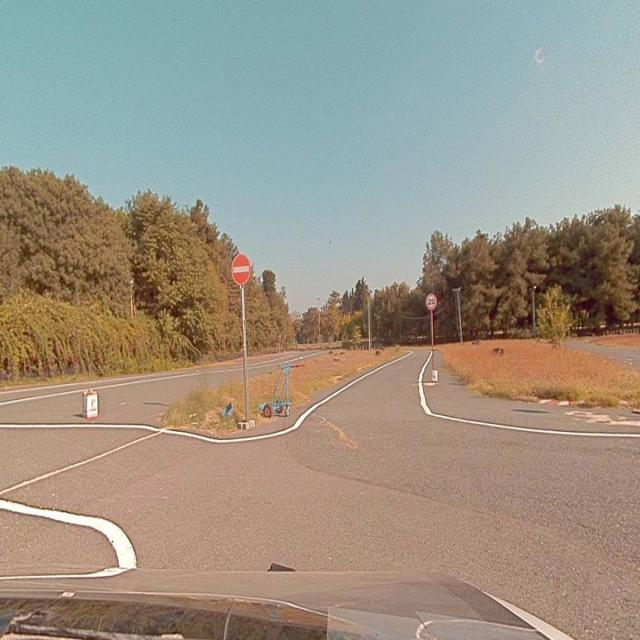20: (426, 294, 437, 310)
girisyok: (231, 254, 250, 284)
